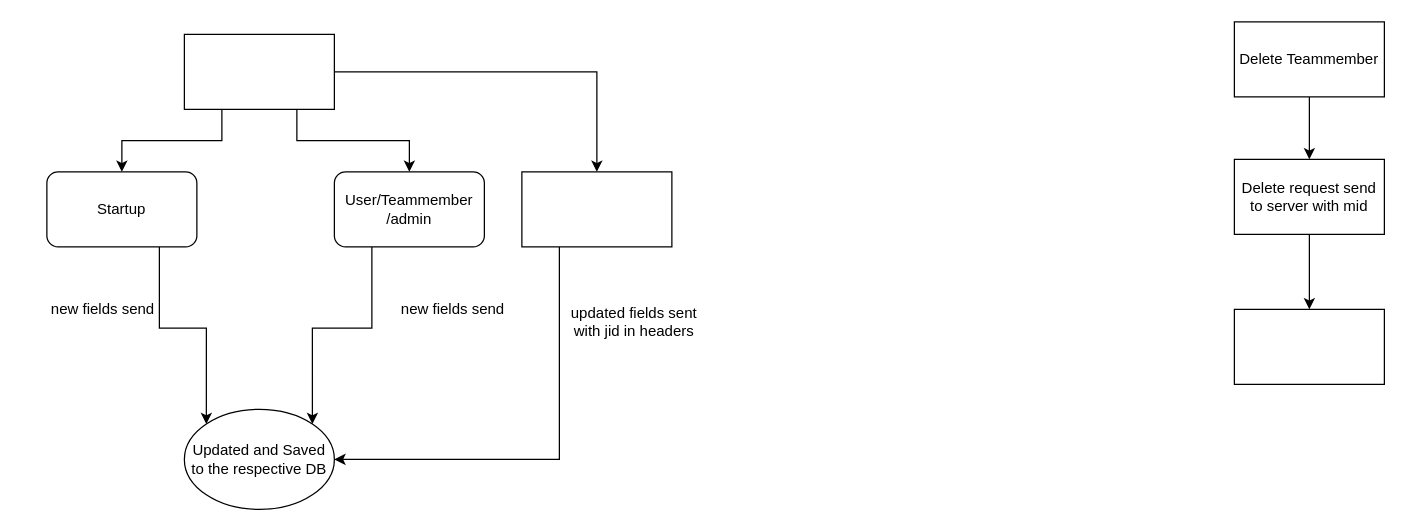
Some shapes in this 1406 by 531 pixel diagram are drawn without their labels. The shapes that lost their labels are listed below. From the top down, each one's centre as x and y in pixels, then its label:
point 258,71: Edit data
point 596,209: Job Posts / Alerts
point 1308,346: Team member data deleted from the db
